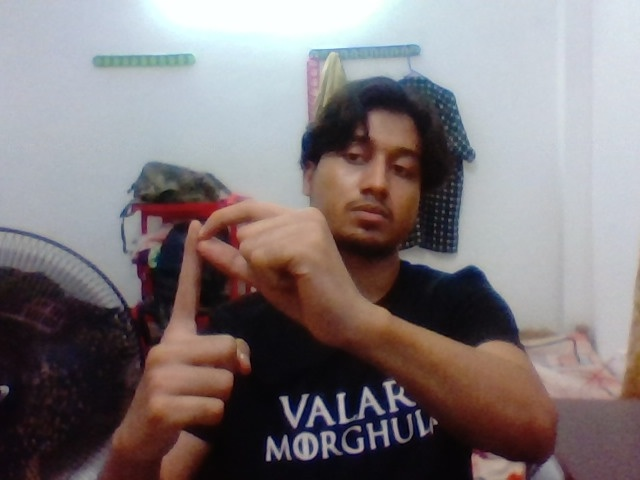P: (149, 182, 336, 428)
